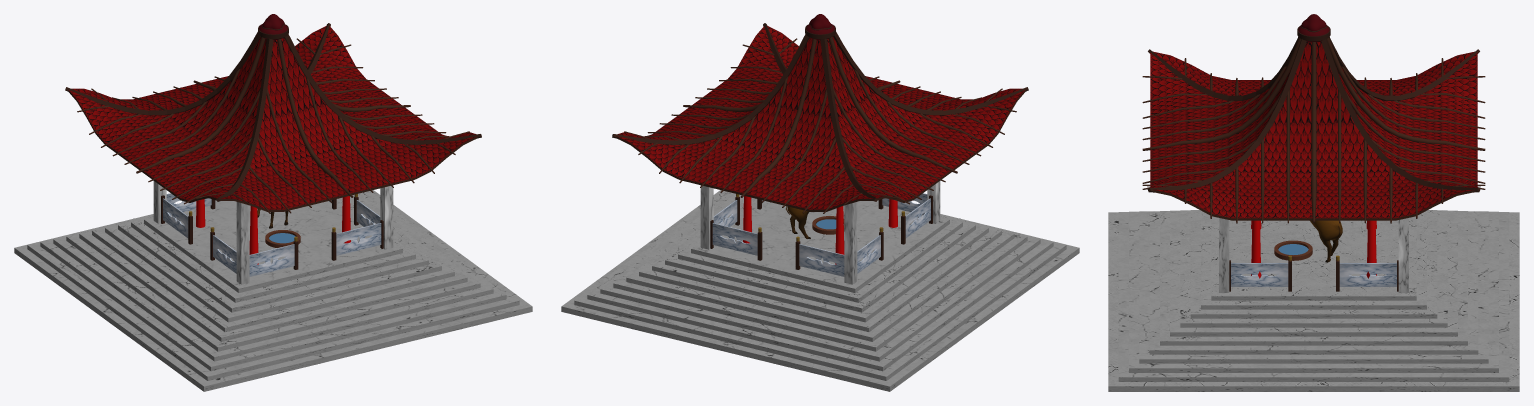
The model's file is simple_chinese_pagoda.glb.
3 renders of one model, left to right at view 1: azimuth 30°, elevation 25°; view 2: azimuth 150°, elevation 25°; view 3: azimuth 270°, elevation 25°, orthographic. The views are drawn at different scales.
Parts seen in each view (by area): view 1: RoofScales, Cube, Cube.045, Cube.044, Cube.043, Cube.042, Cube.041, Cube.040, Cube.039, Cube.038, Cube.015, Cube.009 (+15 smaller); view 2: RoofScales, Cube, Cube.045, Cube.044, Cube.043, Cube.042, Cube.041, Cube.040, Cube.039, Cube.038, Cube.015, Cube.009 (+14 smaller); view 3: RoofScales, Cube, Cube.045, Cube.044, Cube.043, Cube.042, Cube.041, Cube.040, Cube.039, Cube.038, Cube.015, Cube.009 (+22 smaller).
Part boxes in pixels (<box>): RoofScales: <box>69,25,476,209</box>; Cube: <box>144,200,402,292</box>; Cube.045: <box>14,190,532,391</box>; Cube.044: <box>27,191,519,380</box>; Cube.043: <box>40,192,506,371</box>; Cube.042: <box>53,193,493,361</box>; Cube.041: <box>66,194,480,351</box>; Cube.040: <box>79,194,467,341</box>; Cube.039: <box>92,196,454,331</box>; Cube.038: <box>105,199,441,322</box>; Cube.015: <box>118,197,428,312</box>; Cube.009: <box>131,198,415,302</box>; RoofScales: <box>616,25,1024,209</box>; Cube: <box>691,200,949,292</box>; Cube.045: <box>561,190,1079,391</box>; Cube.044: <box>574,191,1066,380</box>; Cube.043: <box>587,192,1053,371</box>; Cube.042: <box>600,193,1040,361</box>; Cube.041: <box>613,194,1027,351</box>; Cube.040: <box>626,194,1014,341</box>; Cube.039: <box>639,196,1001,331</box>; Cube.038: <box>652,199,988,322</box>; Cube.015: <box>665,197,975,312</box>; Cube.009: <box>678,198,962,302</box>; RoofScales: <box>1150,41,1477,218</box>; Cube: <box>1211,216,1416,300</box>; Cube.045: <box>1108,212,1519,391</box>; Cube.044: <box>1118,212,1509,381</box>; Cube.043: <box>1129,211,1498,372</box>; Cube.042: <box>1139,211,1488,363</box>; Cube.041: <box>1149,211,1478,354</box>; Cube.040: <box>1160,211,1467,345</box>; Cube.039: <box>1170,210,1457,336</box>; Cube.038: <box>1180,210,1447,327</box>; Cube.015: <box>1190,210,1437,318</box>; Cube.009: <box>1201,210,1426,309</box>.
Size of the model in its own units: 1600 by 1248 by 1600.
Materials: 13 (5 with a texture image).
